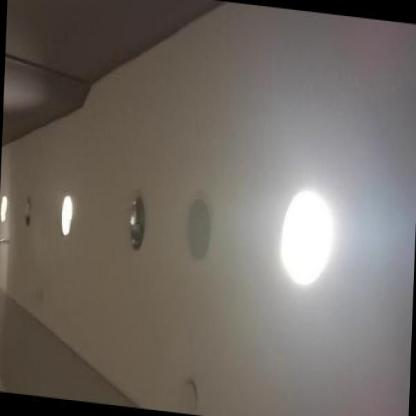light_off: (119, 166, 155, 266), (18, 181, 42, 242)
